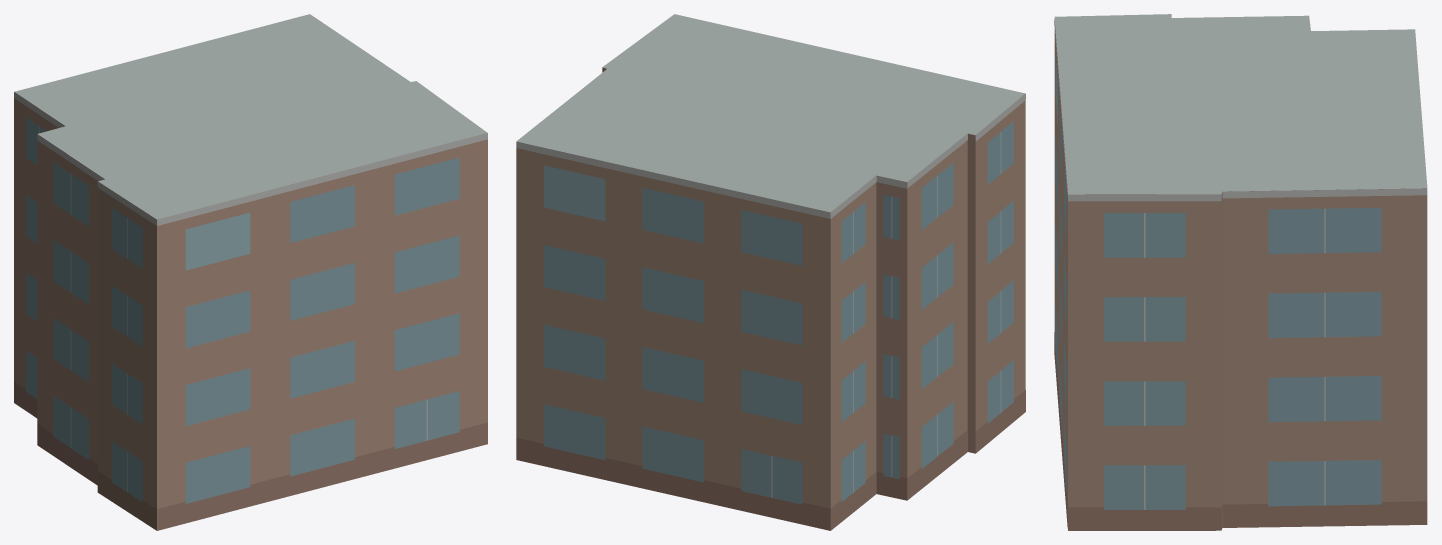
File: survey-upis-32868811.glb
The picture shows the model from 3 angles, left to right: view 1: azimuth 30°, elevation 25°; view 2: azimuth 150°, elevation 25°; view 3: azimuth 270°, elevation 25°; orthographic projection. The views are drawn at different scales.
Visible parts, largest first — view 1: survey-upis-32868811.tmp; view 2: survey-upis-32868811.tmp; view 3: survey-upis-32868811.tmp.
Boxes of the visible parts, x1=… form: survey-upis-32868811.tmp: x1=14, y1=14, x2=487, y2=530; survey-upis-32868811.tmp: x1=516, y1=14, x2=1025, y2=530; survey-upis-32868811.tmp: x1=1054, y1=14, x2=1427, y2=530.
Size of the model in its own units: 13.7 by 11.9 by 11.97.
